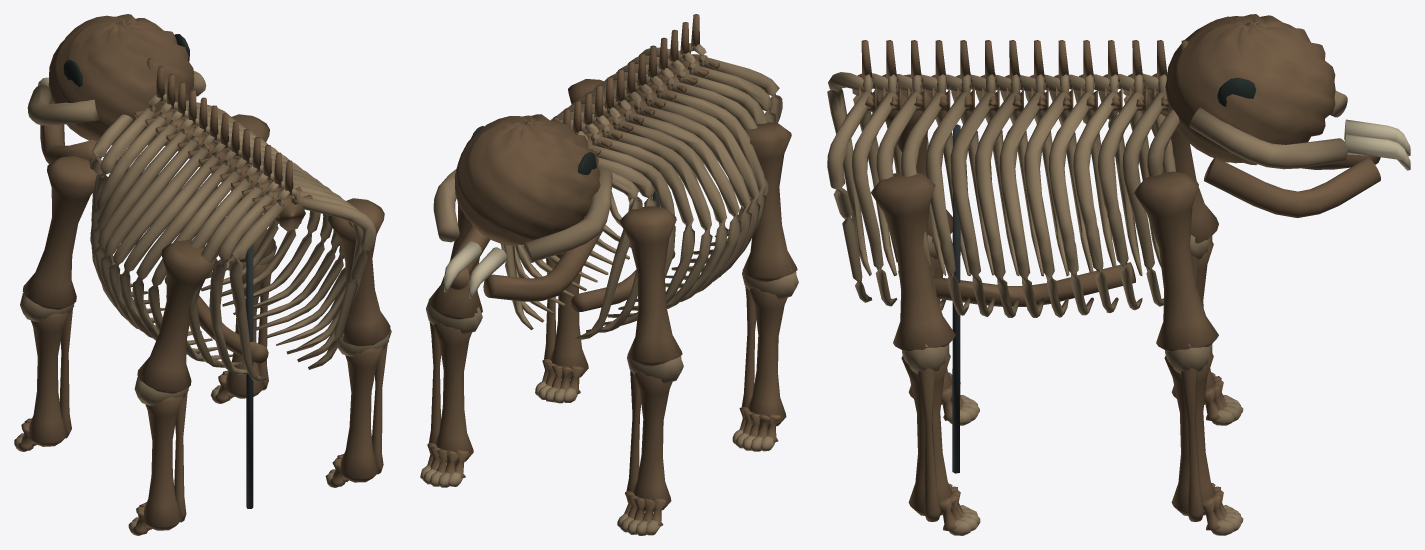
3 views of the same model, side by side, from view 1: azimuth 30°, elevation 25°; view 2: azimuth 150°, elevation 25°; view 3: azimuth 270°, elevation 25° (orthographic). The views are drawn at different scales.
Parts seen in each view (by area): view 1: D07_SPEC_Chitin_export; view 2: D07_SPEC_Chitin_export; view 3: D07_SPEC_Chitin_export.
Boxes of the visible parts, x1,y1,x2,y2 form: D07_SPEC_Chitin_export: (14, 14, 391, 535); D07_SPEC_Chitin_export: (420, 14, 798, 535); D07_SPEC_Chitin_export: (827, 14, 1410, 535).
Bounding box in the file's own units: 1.41 × 2.1 × 2.46.
